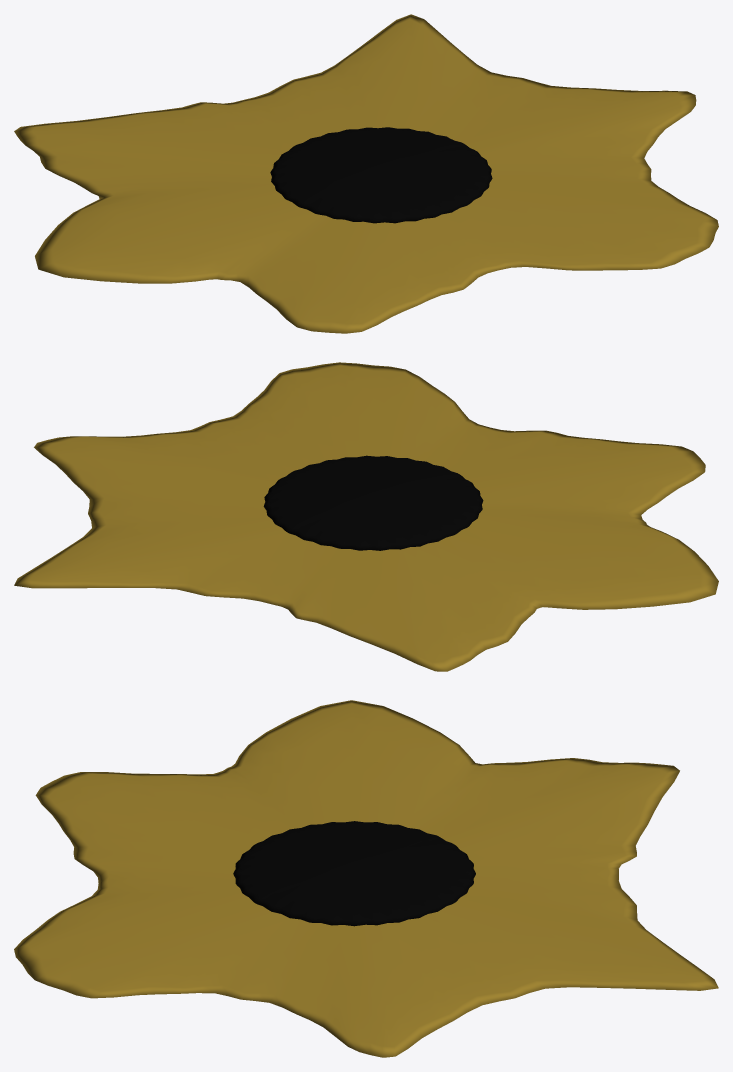
Rendered from amoeba.gltf.
3 renders of one model, top to bottom at view 1: azimuth 30°, elevation 25°; view 2: azimuth 150°, elevation 25°; view 3: azimuth 270°, elevation 25°, orthographic. The views are drawn at different scales.
Visible parts, largest first — view 1: Cylinder; view 2: Cylinder; view 3: Cylinder.
Boxes of the visible parts, box(x1,y1,x2,y2) form: Cylinder: box(14, 14, 718, 333); Cylinder: box(14, 362, 718, 671); Cylinder: box(14, 700, 718, 1057).
Size of the model in its own units: 2.59 by 0.1004 by 2.16.
